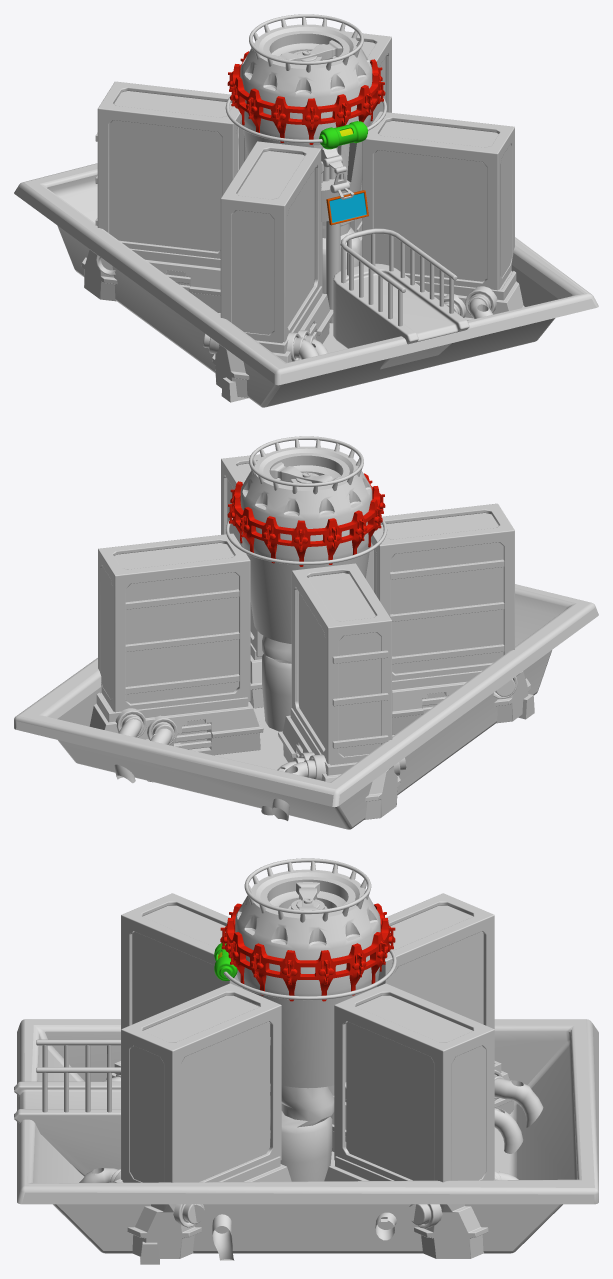
Rendered from glasshouse.fbx.
3 views of the same model, one above another, from view 1: azimuth 30°, elevation 25°; view 2: azimuth 150°, elevation 25°; view 3: azimuth 270°, elevation 25° (orthographic). The views are drawn at different scales.
Visible parts, largest first — view 1: Cube.044, Plane.011, Cube.040, Cylinder.030, Cube.043, Cube.045, Cube.039, Cylinder.023, TubeInputBackup.002, Cube.012_Curve.002, Cylinder.032, BezierCircle.005 (+7 smaller); view 2: Cube.044, Plane.011, Cube.040, Cylinder.030, Cube.043, Cube.041, Cube.039, Cylinder.031, TubeInputBackup.002, cable.004, BezierCircle.005, Cube.042 (+3 smaller); view 3: Plane.011, Cube.044, Cube.040, Cylinder.030, Cube.043, Cube.045, Cube.039, Cylinder.031, cable.004, Cylinder.023, TubeInputBackup.002, BezierCircle.005 (+4 smaller).
Boxes of the visible parts, x1,y1,x2,y2 form: Cube.044: [109, 40, 511, 334]; Plane.011: [14, 127, 598, 407]; Cube.040: [97, 31, 514, 343]; Cylinder.030: [240, 24, 372, 221]; Cube.043: [81, 221, 524, 397]; Cube.045: [333, 263, 469, 369]; Cube.039: [227, 51, 385, 144]; Cylinder.023: [341, 233, 453, 326]; TubeInputBackup.002: [96, 254, 497, 361]; Cube.012_Curve.002: [340, 228, 457, 292]; Cylinder.032: [321, 221, 340, 323]; BezierCircle.005: [249, 14, 363, 64]; Cube.044: [101, 463, 503, 756]; Plane.011: [14, 584, 598, 829]; Cube.040: [98, 453, 514, 765]; Cylinder.030: [240, 446, 372, 643]; Cube.043: [89, 643, 530, 819]; Cube.041: [125, 559, 504, 748]; Cube.039: [227, 473, 385, 566]; Cylinder.031: [262, 635, 291, 731]; TubeInputBackup.002: [115, 676, 517, 780]; cable.004: [114, 715, 307, 820]; BezierCircle.005: [249, 436, 363, 486]; Cube.042: [174, 696, 447, 757]; Plane.011: [17, 1019, 598, 1253]; Cube.044: [130, 905, 485, 1182]; Cube.040: [121, 893, 494, 1182]; Cylinder.030: [235, 869, 380, 1088]; Cube.043: [106, 1061, 514, 1258]; Cube.045: [14, 1081, 120, 1176]; Cube.039: [220, 903, 395, 1001]; Cylinder.031: [270, 1082, 334, 1181]; cable.004: [79, 1076, 543, 1260]; Cylinder.023: [42, 1045, 111, 1112]; TubeInputBackup.002: [110, 1069, 503, 1228]; BezierCircle.005: [244, 858, 371, 914].
Size of the model in its own units: 400 by 321 by 569.
